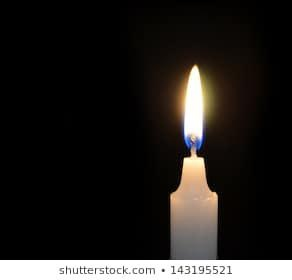fire: (181, 60, 205, 151)
